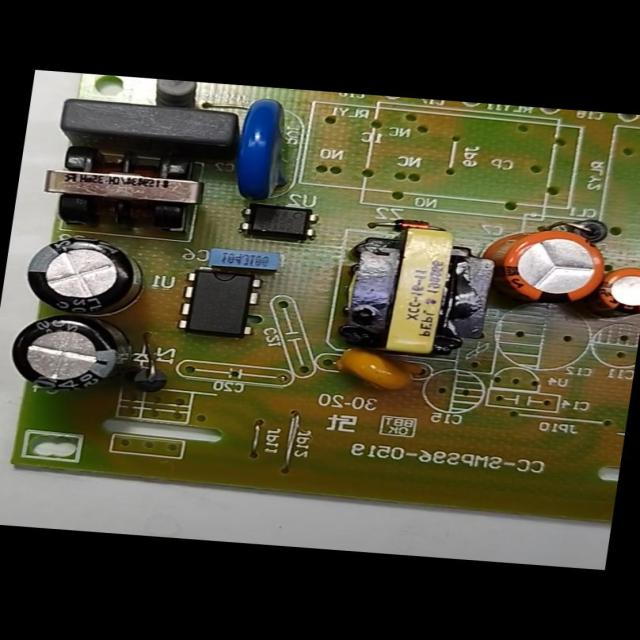Cap1: (478, 217, 616, 312)
Cap2: (593, 264, 639, 320)
Cap3: (18, 230, 155, 321)
Cap4: (2, 310, 142, 400)
MOSFET: (171, 260, 271, 346)
Mov: (215, 92, 303, 208)
Resistor: (148, 79, 207, 106)
Transformer: (328, 217, 504, 369), (30, 138, 214, 242)
